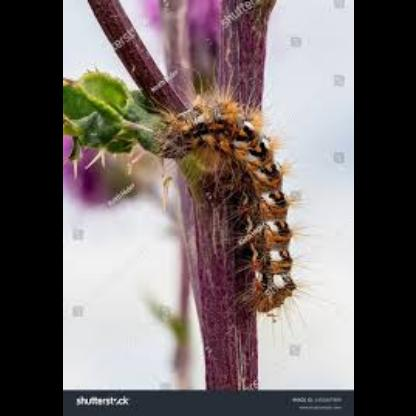oruga: (145, 96, 289, 312)
